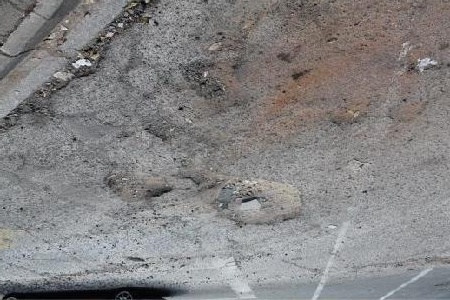pothole: (0, 0, 158, 112), (206, 174, 306, 227), (102, 162, 173, 203), (180, 57, 246, 99)
